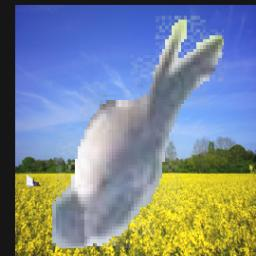Crow: (27, 118, 51, 186)
Swallow: (53, 17, 225, 249)
